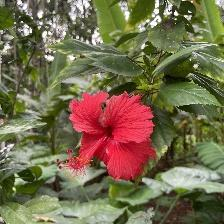hibiscus: (62, 92, 159, 184)
